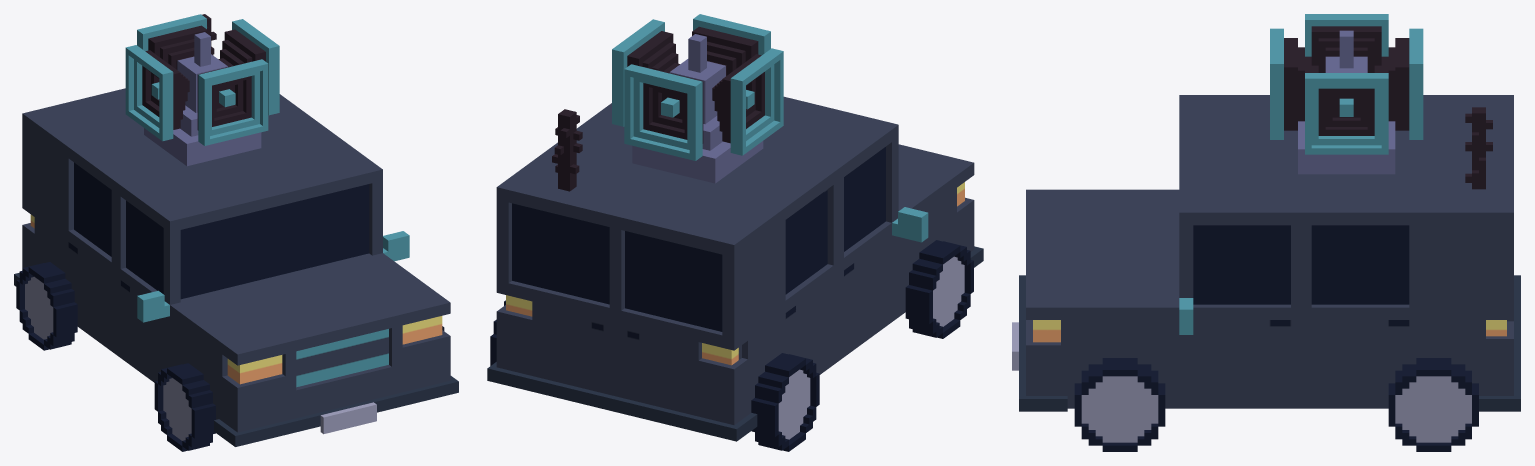
The model's file is SirenCar.fbx.
3 renders of one model, left to right at view 1: azimuth 30°, elevation 25°; view 2: azimuth 150°, elevation 25°; view 3: azimuth 270°, elevation 25°, orthographic. The views are drawn at different scales.
Visible parts, largest first — view 1: Object; view 2: Object; view 3: Object.
Part boxes in pixels (<box>): Object: <box>14,14,458,451</box>; Object: <box>487,14,983,451</box>; Object: <box>1012,14,1520,451</box>.
Size of the model in its own units: 50 by 55 by 73.
